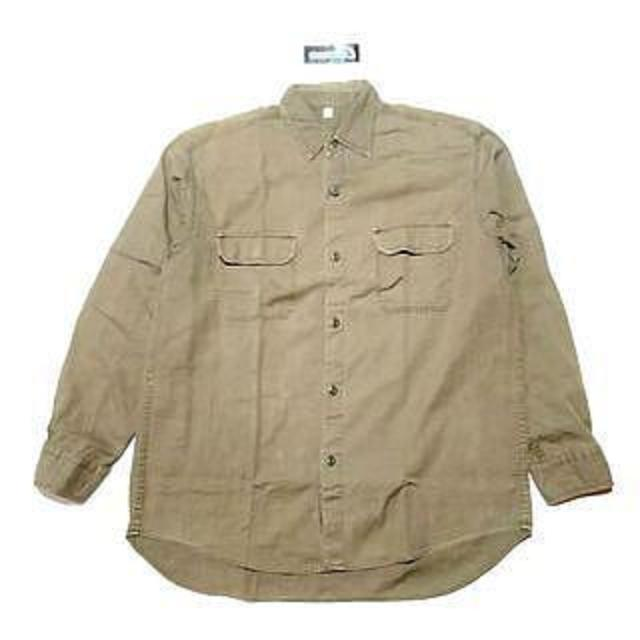SHIRT: (21, 77, 622, 614)
